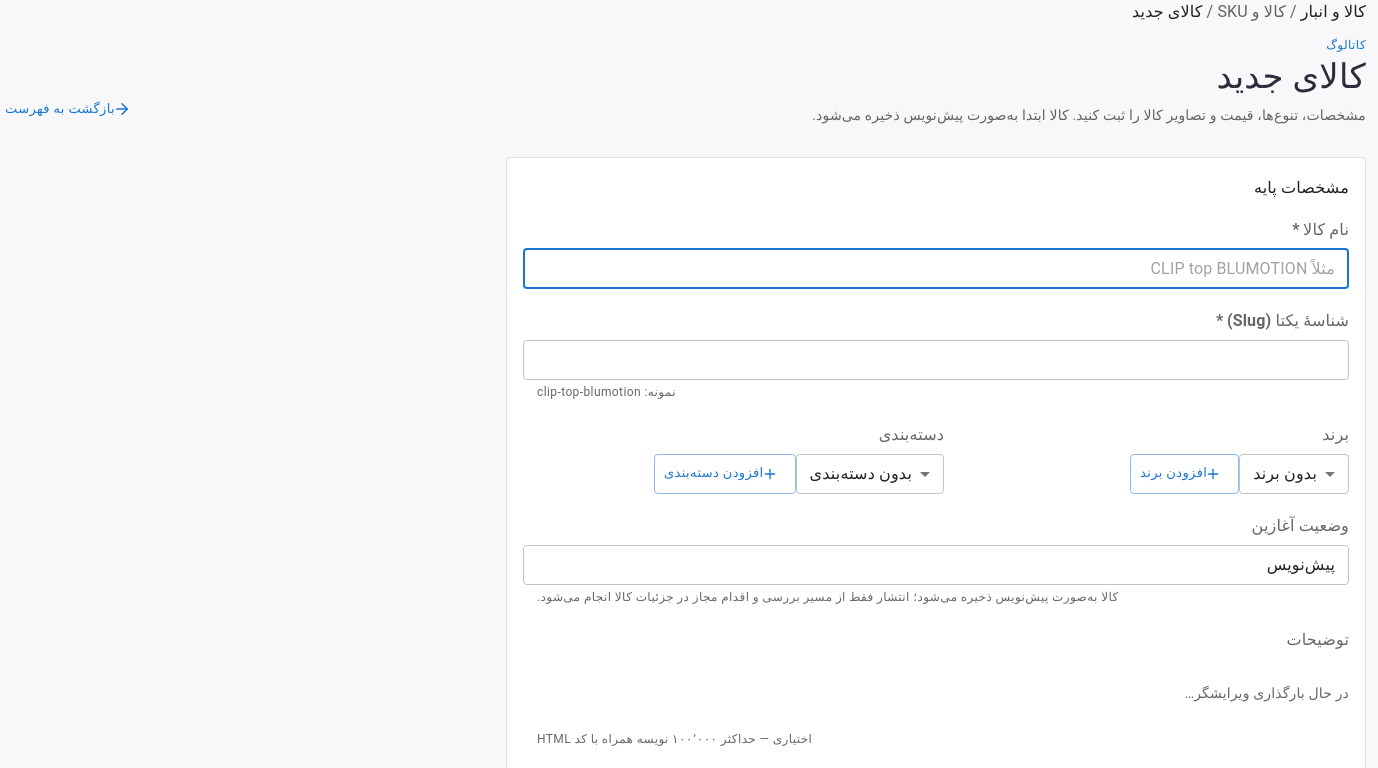
Test case: ProductCreateForm › rejects an invalid slug pattern
The width and height of the screenshot is (1378, 768).
Expected: the heading "مشخصات پایه" is shown, [1254,178,1349,197]
Type "Lock_Handle!" into the field labelled "شناسهٔ یکتا (Slug) *" at (936, 360), box [523,340,1349,380]
(page scrolled)
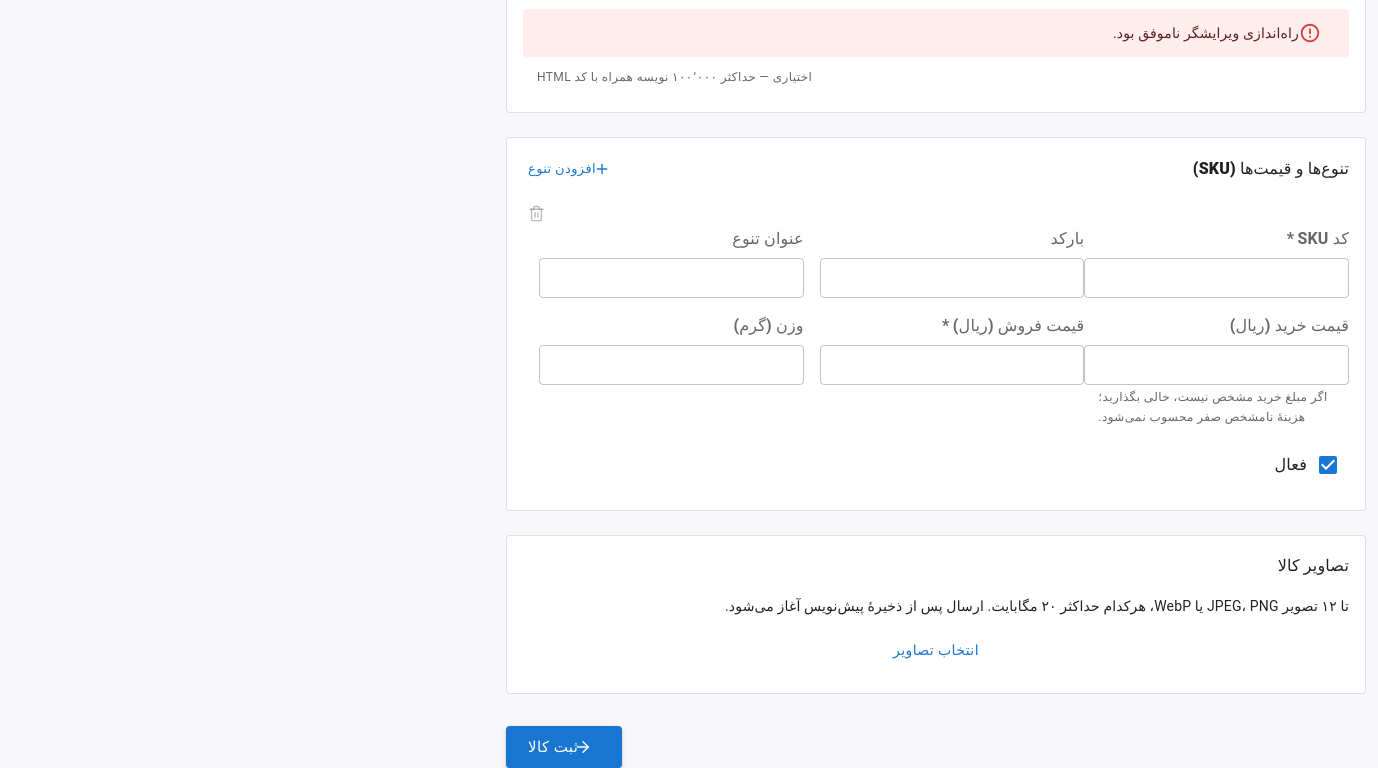
Click the button "ثبت کالا" at (564, 747), box [506,726,622,767]
(page scrolled)
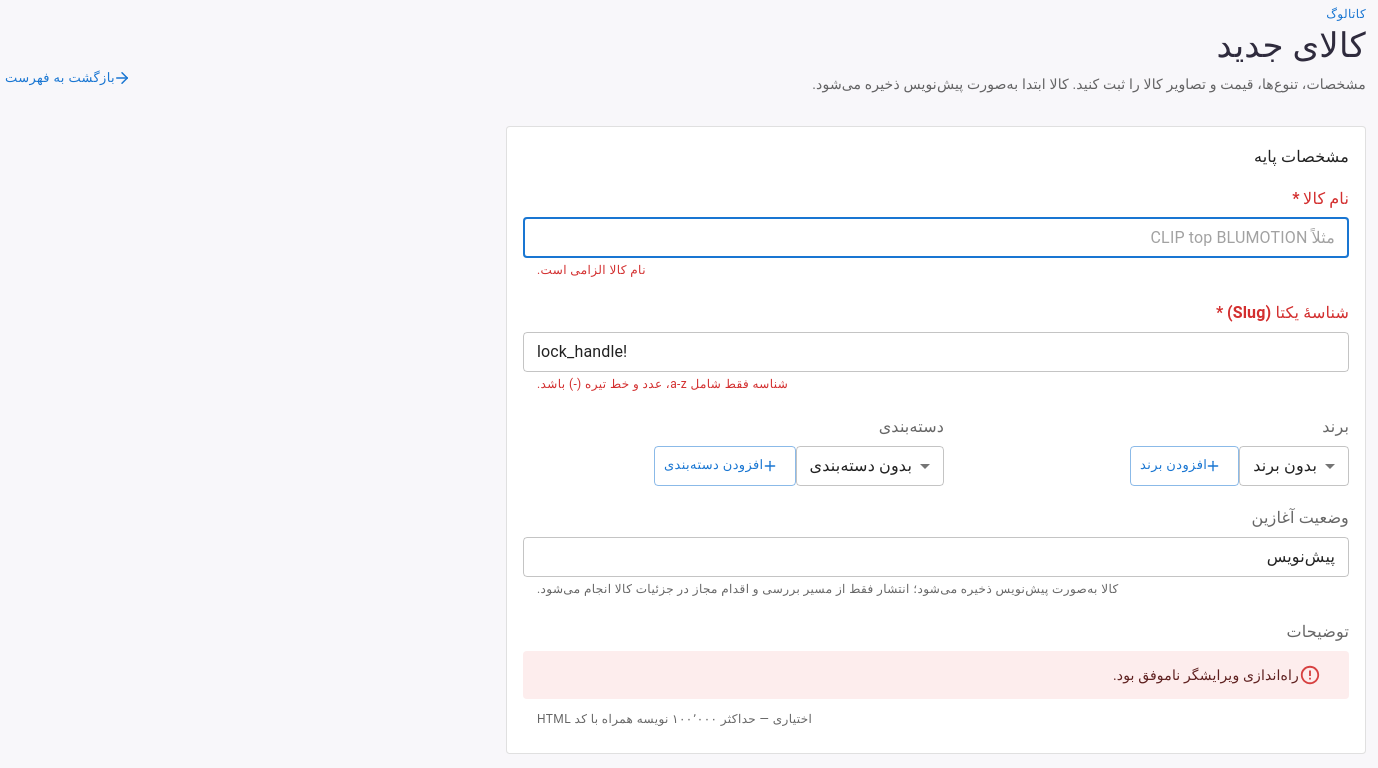
Expected: the text "شناسه فقط شامل a-z، عدد و خط تیره (-) باشد." is shown, [537,377,788,391]
